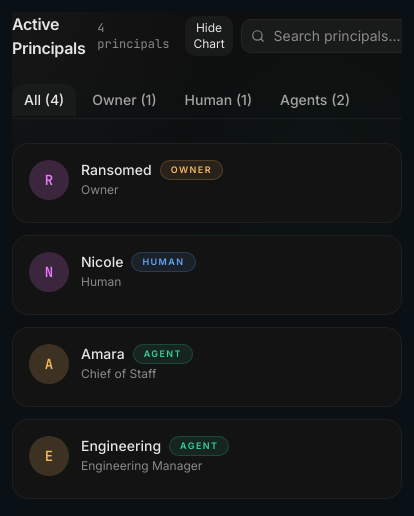
it: MemberList principals › shows only agents when the Agents tab is selected
Click the tab "Agents (2)" at coordinates (315, 100), box [268, 84, 362, 116]
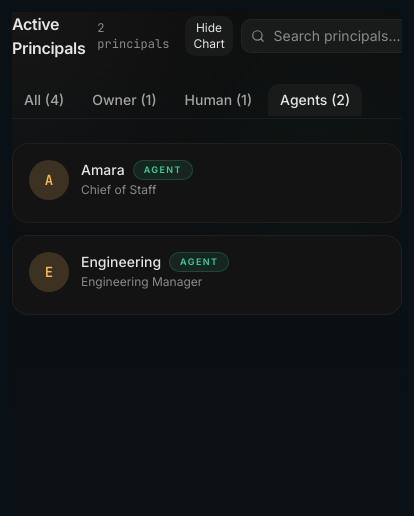
expect the text "Amara" is shown: met, box [81, 160, 125, 180]
expect the button "Ransomed" is gone: met
